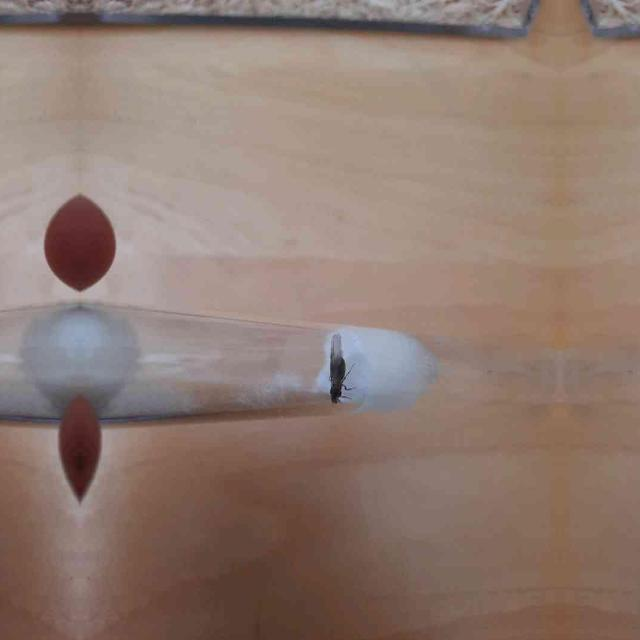Lasius: (316, 332, 352, 410)
